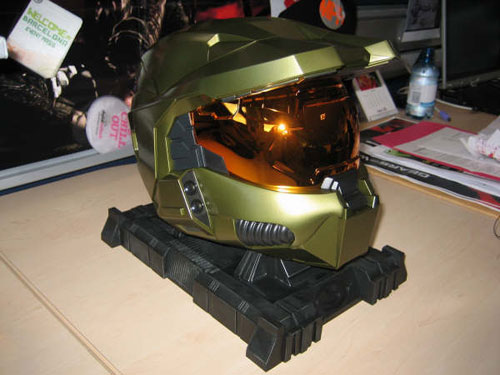helmet: (134, 26, 373, 260)
